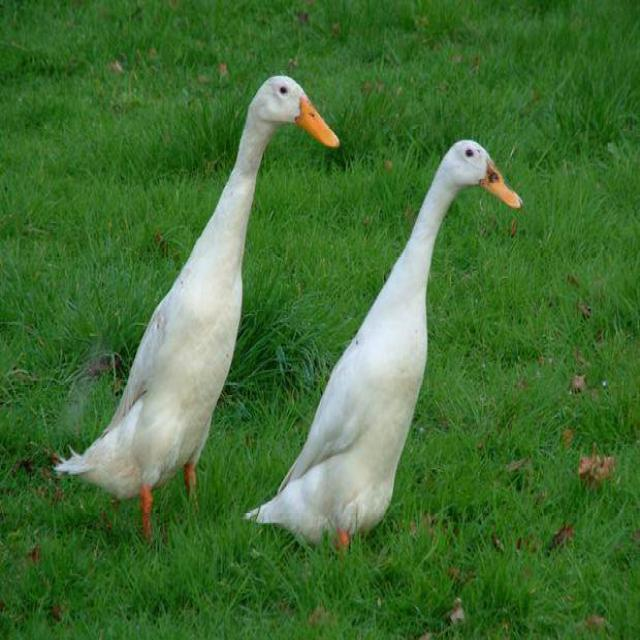duck: (56, 76, 339, 537), (245, 139, 521, 546)
